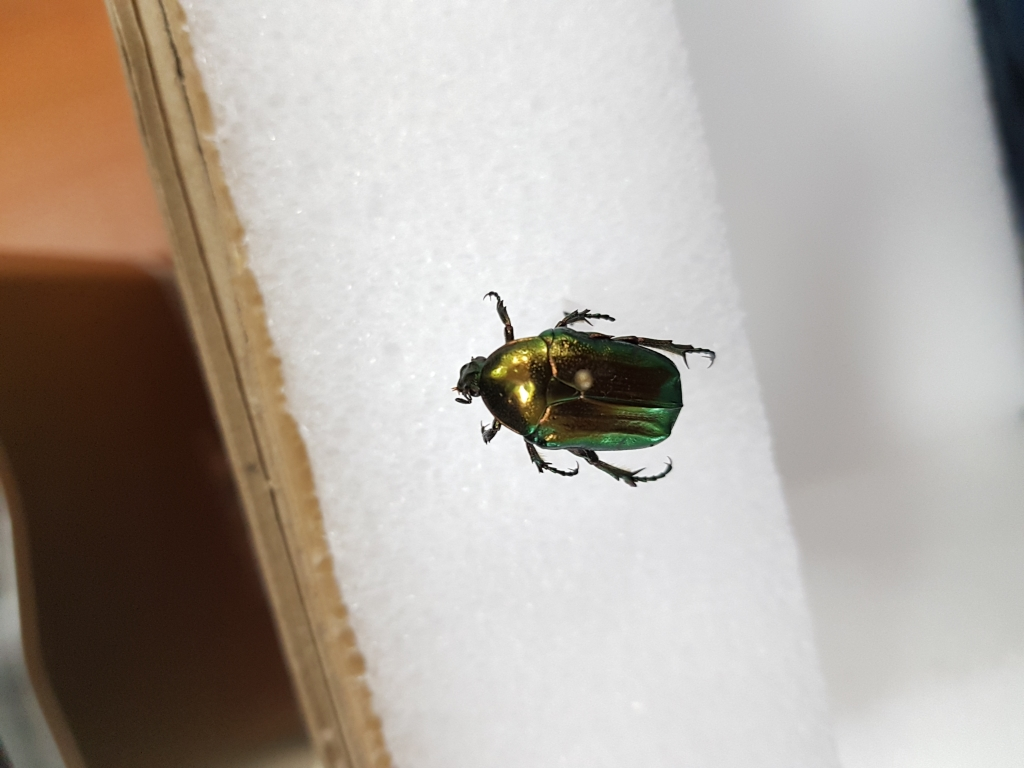Cetonia_aurata: (448, 277, 730, 508)
